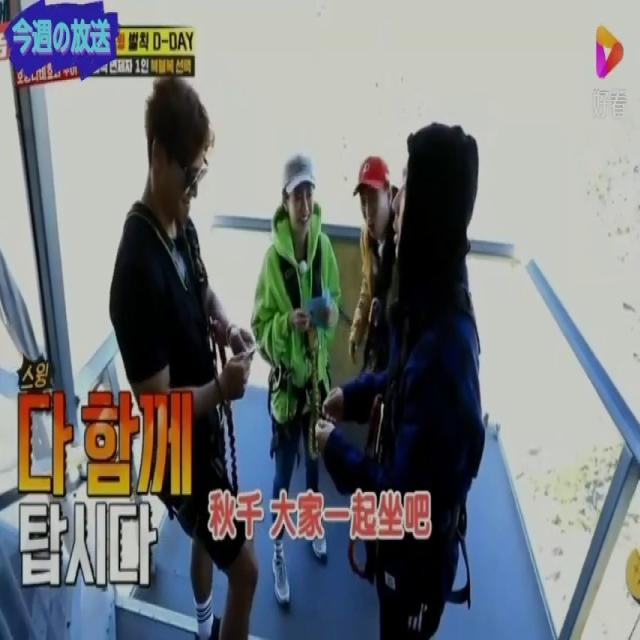non-fight: (82, 64, 275, 637), (313, 117, 492, 638), (248, 150, 342, 611)
